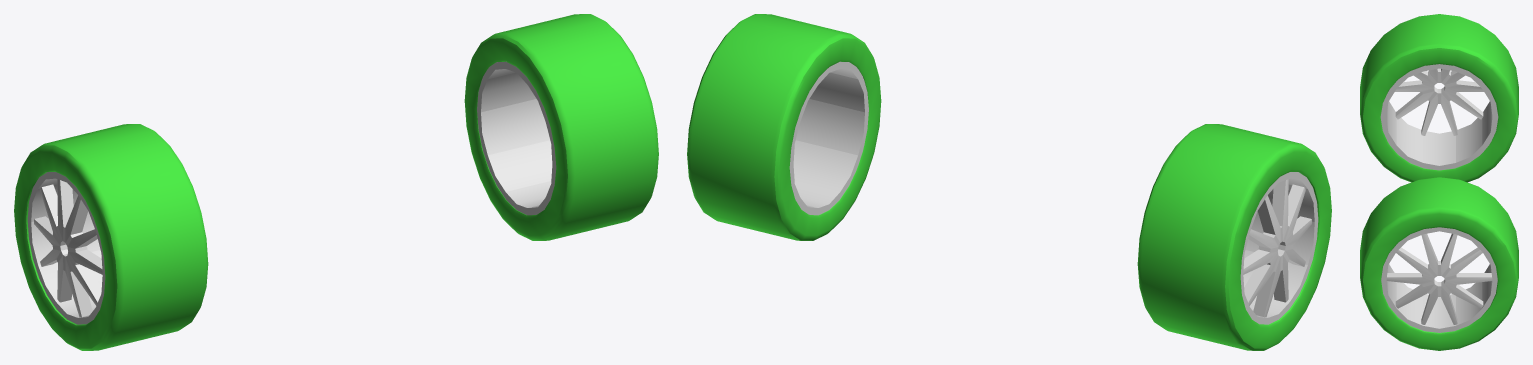
Rendered from FordFiestaWheels.fbx.
3 renders of one model, left to right at view 1: azimuth 30°, elevation 25°; view 2: azimuth 150°, elevation 25°; view 3: azimuth 270°, elevation 25°, orthographic. The views are drawn at different scales.
Visible parts, largest first — view 1: NewWheels; view 2: NewWheels; view 3: NewWheels.
Boxes of the visible parts, x1=… form: NewWheels: x1=14, y1=14, x2=658, y2=350; NewWheels: x1=687, y1=14, x2=1331, y2=350; NewWheels: x1=1360, y1=14, x2=1518, y2=350.
Size of the model in its own units: 176 by 60 by 60.
